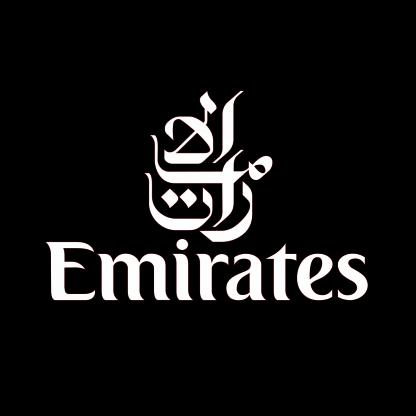Emirates: (48, 85, 369, 304), (48, 241, 369, 303)
